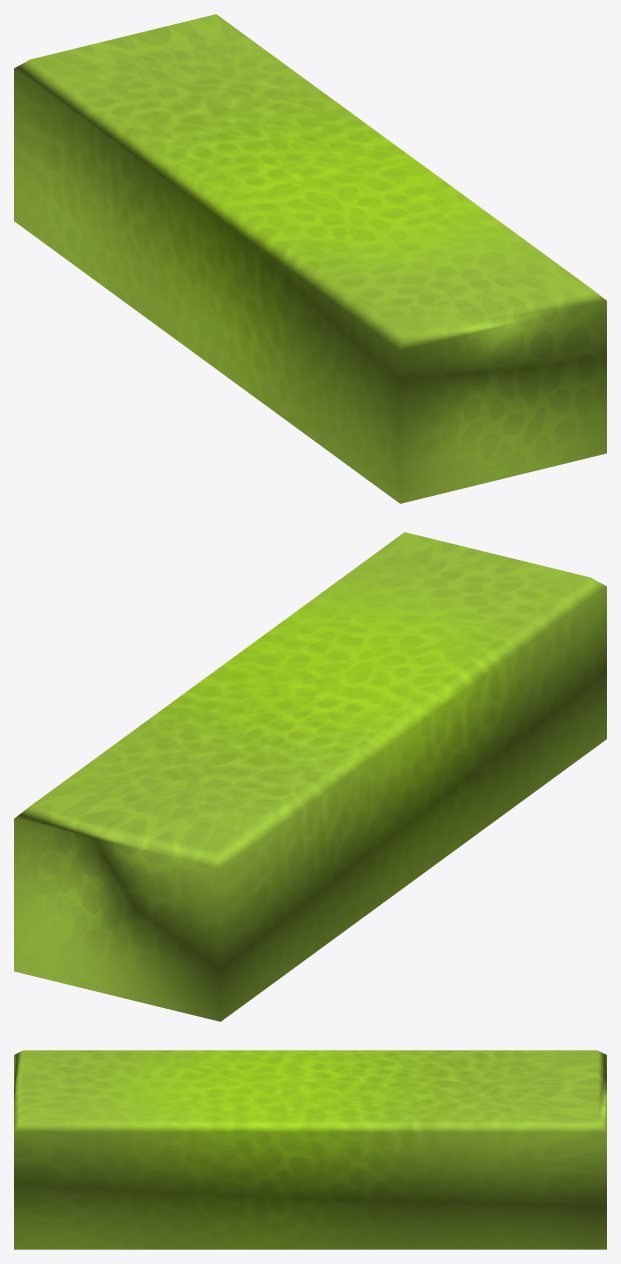
File: Muro.fbx
The picture shows the model from 3 angles, top to bottom: view 1: azimuth 30°, elevation 25°; view 2: azimuth 150°, elevation 25°; view 3: azimuth 270°, elevation 25°; orthographic projection. The views are drawn at different scales.
Visible parts, largest first — view 1: pCube1; view 2: pCube1; view 3: pCube1.
Part boxes in pixels (left/top/right/bottom): pCube1: left=14, top=14, right=606, bottom=503; pCube1: left=14, top=532, right=606, bottom=1021; pCube1: left=14, top=1050, right=606, bottom=1249.
Bounding box in the file's own units: 1.32 × 1 × 4.28.
